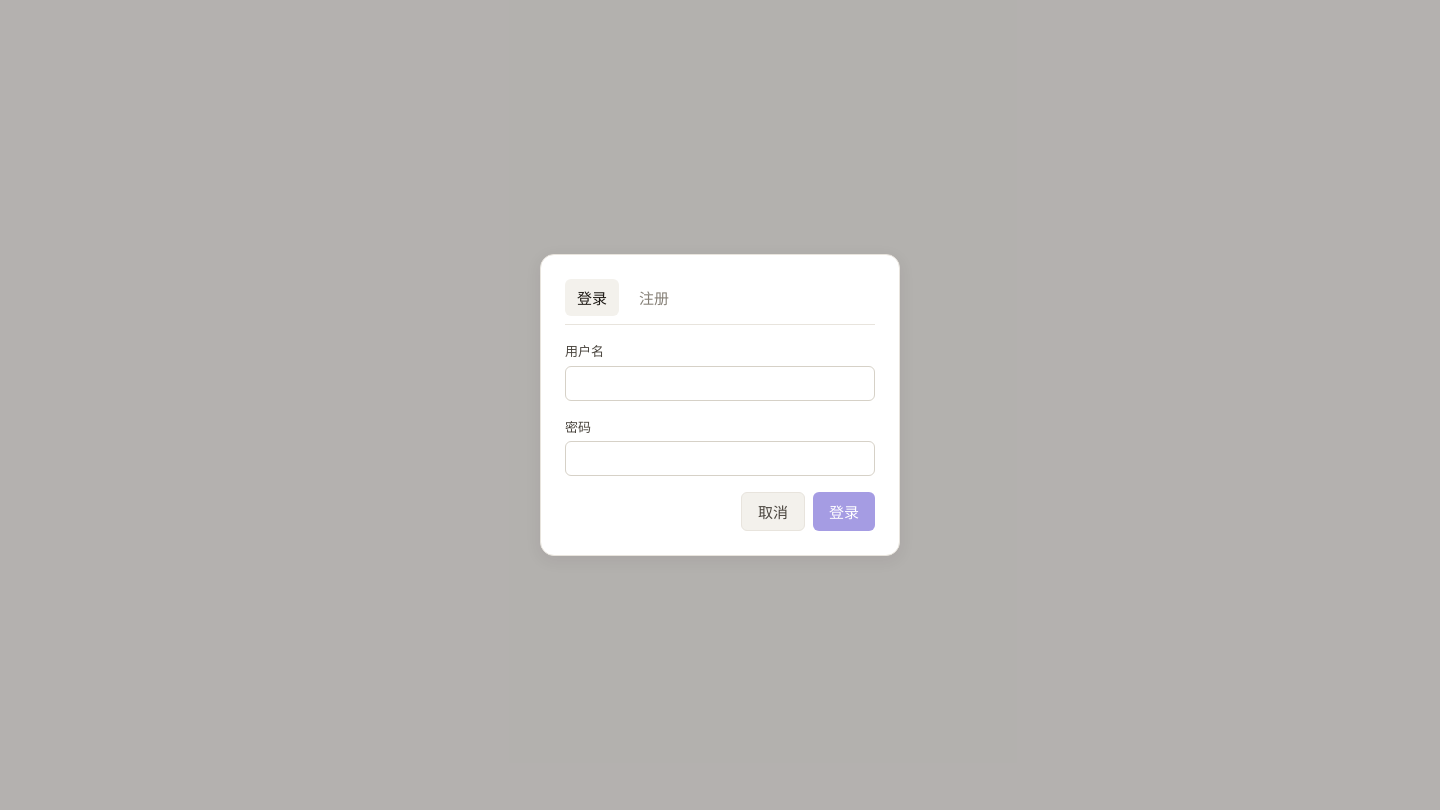
Scenario: AuthDialog › 后端 422 数组型 detail 友好展示
Step 1. Type "alice" into the field with test id "auth-username" → [720, 383], box [565,366,875,400]
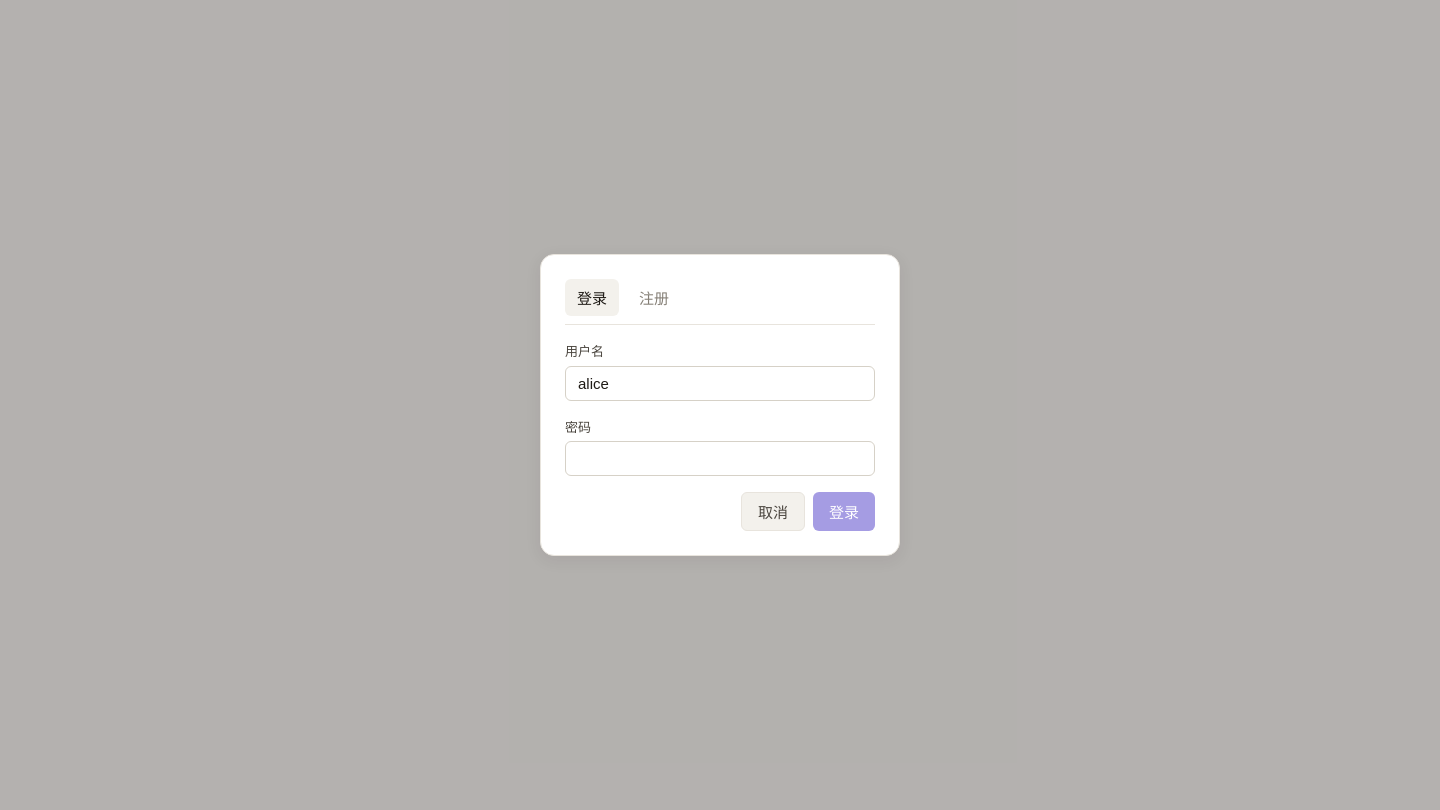
Step 2. Type "hunter2" into the password field with test id "auth-password" → [720, 459], box [565,441,875,476]
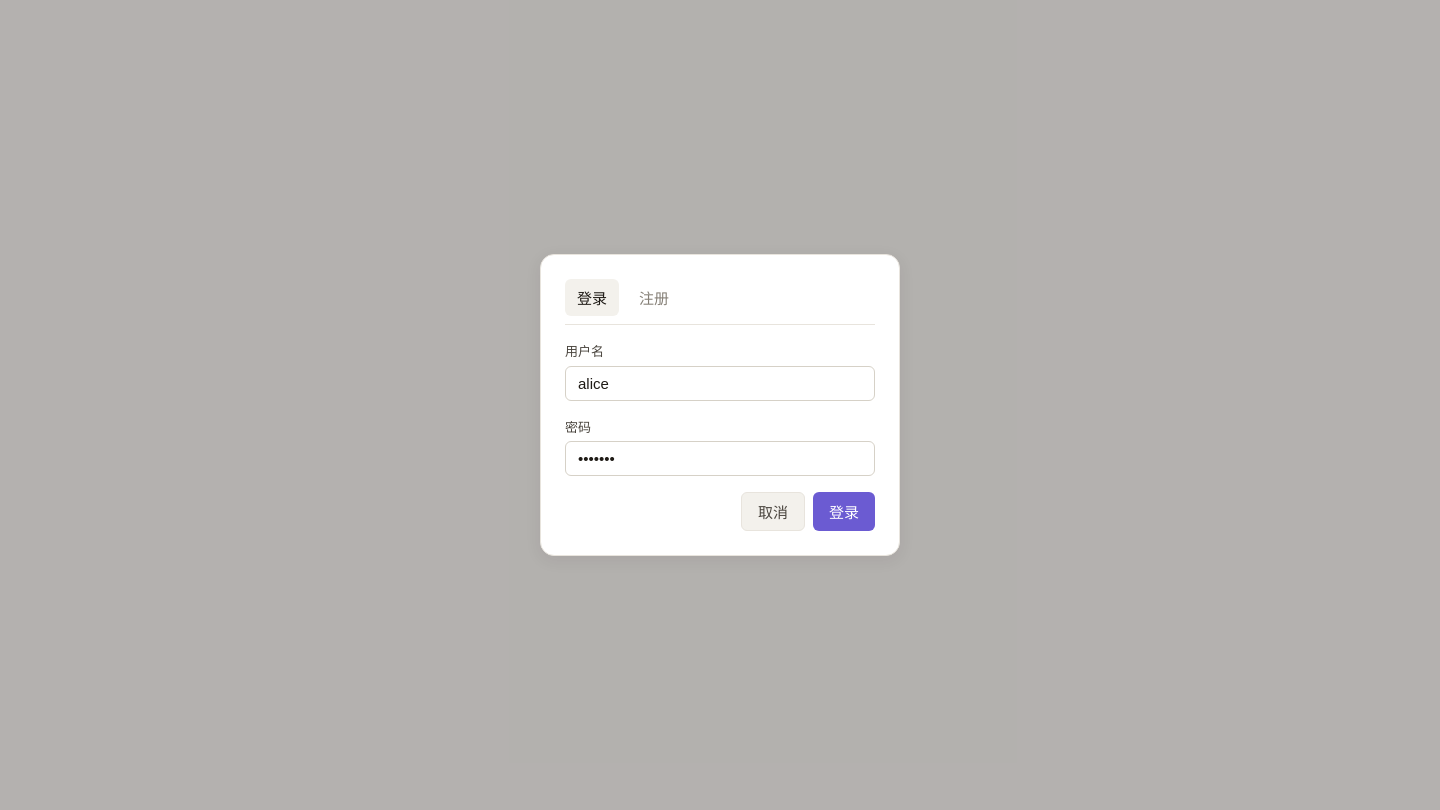
Step 3. Submit the dialog, box [540,254,900,556]
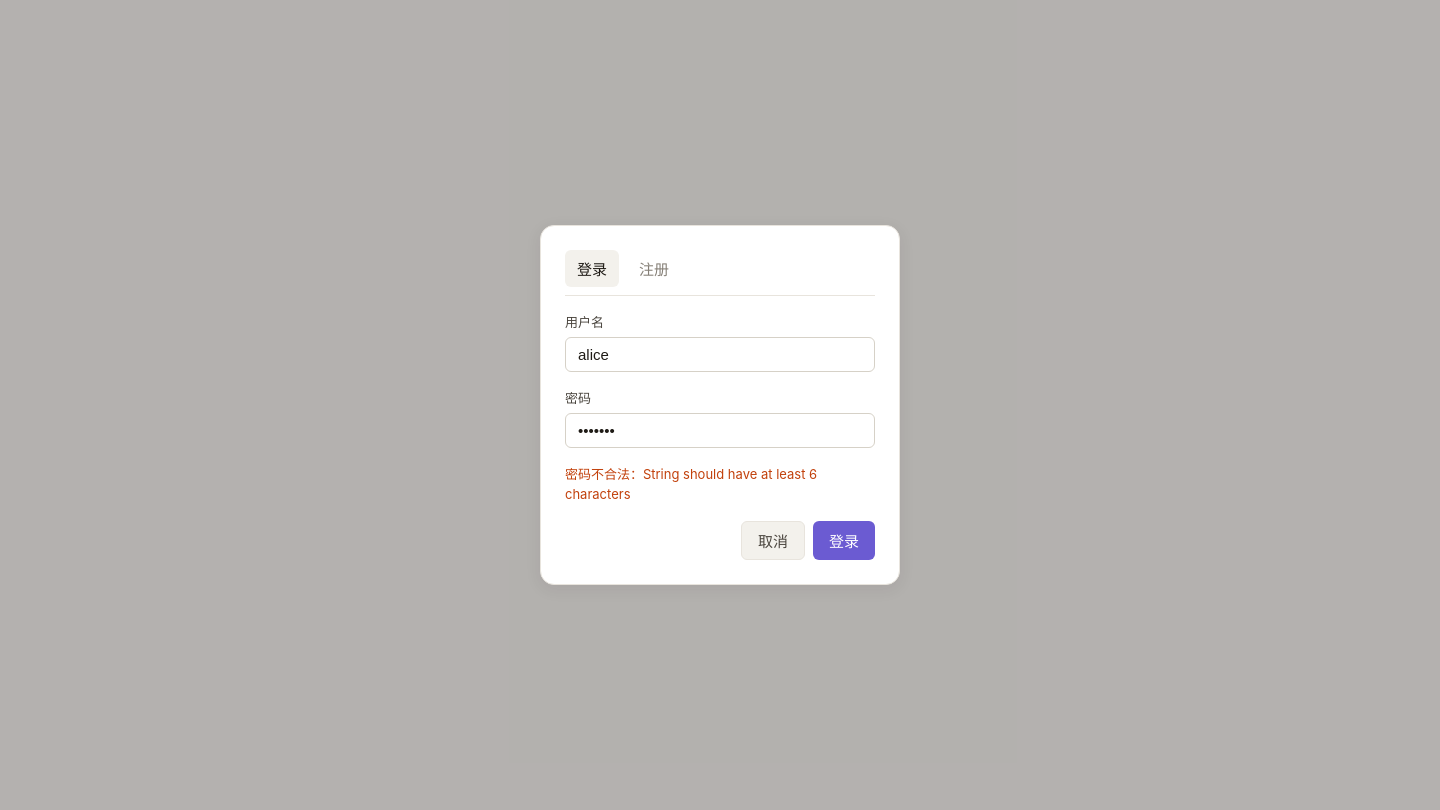
expect the text with test id "auth-error" shows "密码不合法": met, box [565,466,817,502]
